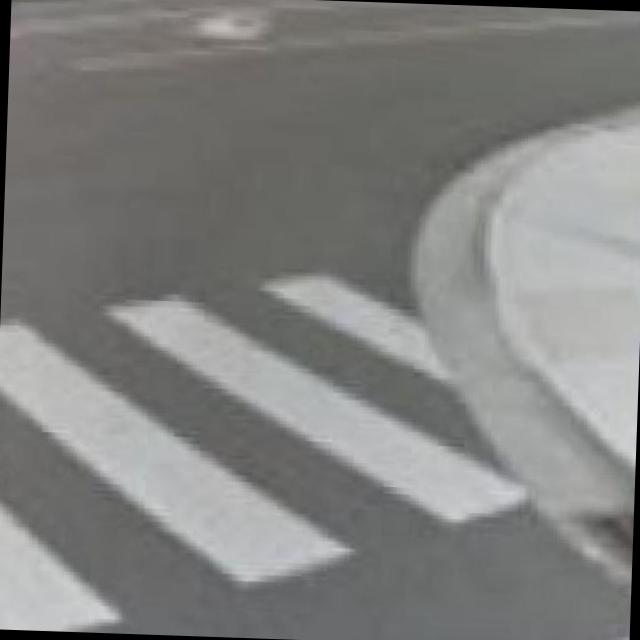zebra: (0, 242, 596, 632)
